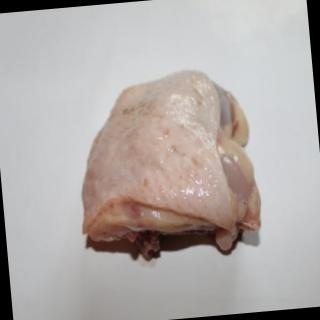Ayam: (68, 64, 267, 268)
